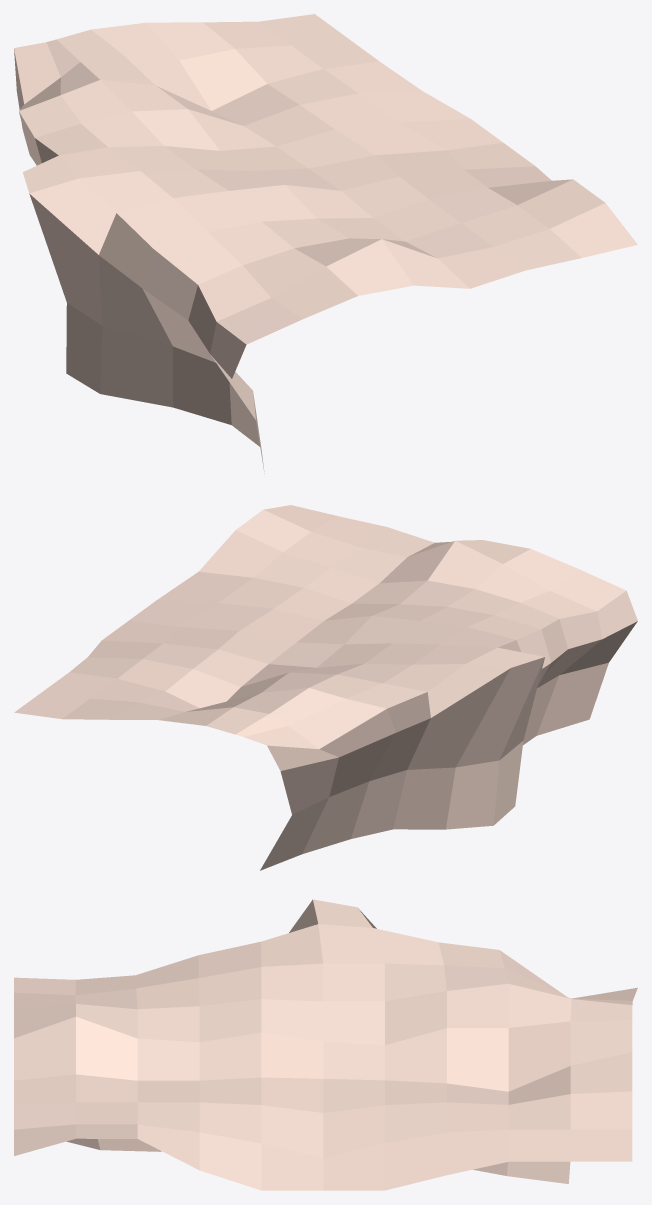
File: maa1.0.glb
The picture shows the model from 3 angles, top to bottom: view 1: azimuth 30°, elevation 25°; view 2: azimuth 150°, elevation 25°; view 3: azimuth 270°, elevation 25°; orthographic projection. The views are drawn at different scales.
Parts seen in each view (by area): view 1: Grid; view 2: Grid; view 3: Grid.
Part boxes in pixels (bbox=[...]): Grid: bbox=[14, 14, 637, 473]; Grid: bbox=[14, 505, 637, 870]; Grid: bbox=[14, 899, 637, 1190].
Bounding box in the file's own units: 291 × 118 × 343.
